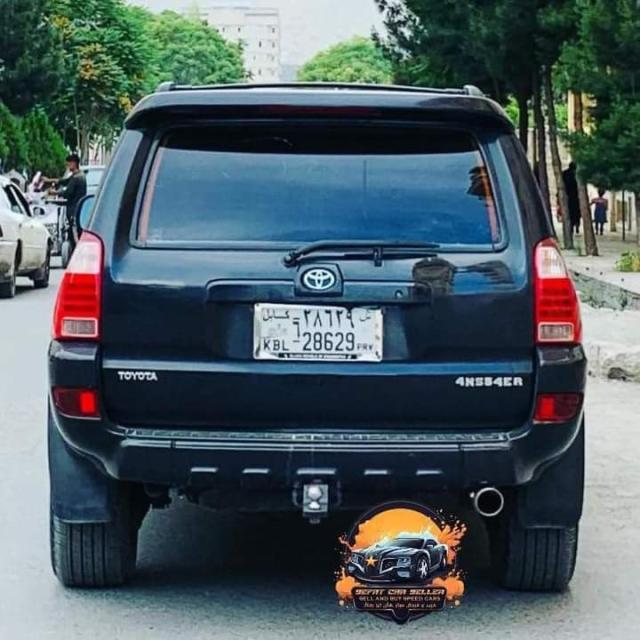Plate: (255, 303, 382, 359)
